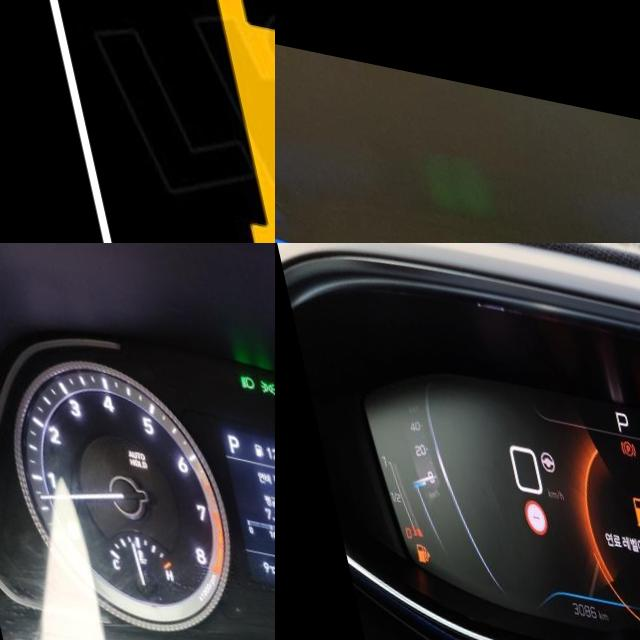Low beam: (435, 225, 463, 243), (229, 359, 246, 377)
Low fuel level: (160, 0, 275, 243), (613, 481, 635, 516), (392, 539, 406, 560)
SideLamp: (465, 229, 496, 243), (249, 364, 268, 380)
